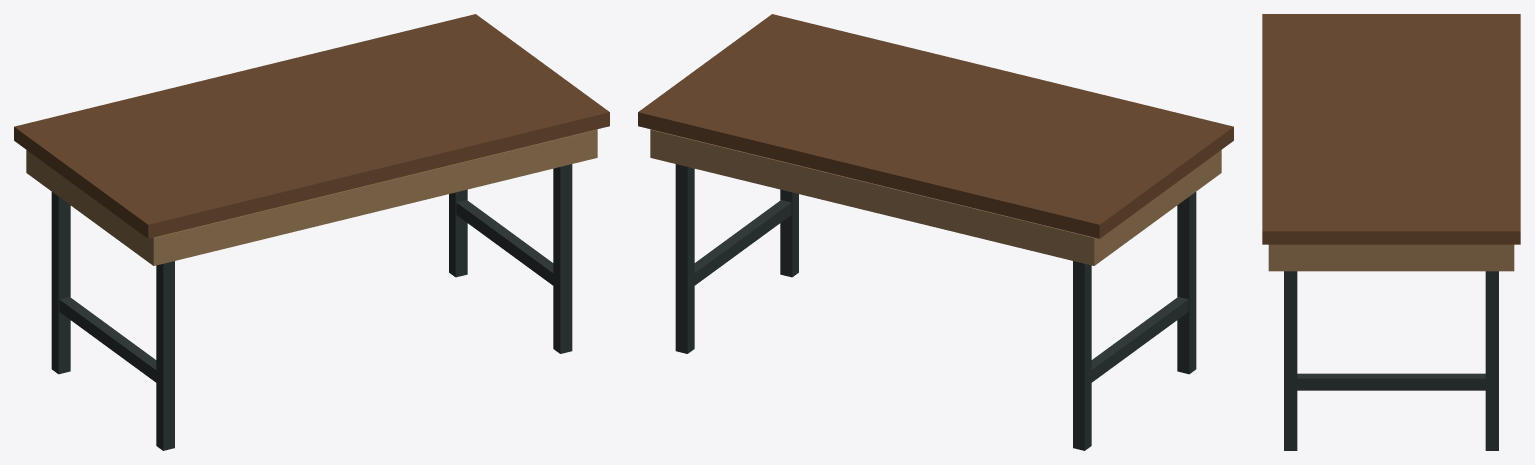
File: teachers_desk.glb
The picture shows the model from 3 angles, left to right: view 1: azimuth 30°, elevation 25°; view 2: azimuth 150°, elevation 25°; view 3: azimuth 270°, elevation 25°; orthographic projection. The views are drawn at different scales.
Visible parts, largest first — view 1: teachers_desk; view 2: teachers_desk; view 3: teachers_desk.
Boxes of the visible parts, x1=… form: teachers_desk: x1=14, y1=14, x2=609, y2=450; teachers_desk: x1=638, y1=14, x2=1233, y2=450; teachers_desk: x1=1262, y1=14, x2=1520, y2=450.
Size of the model in its own units: 1.55 by 0.7725 by 0.78.
